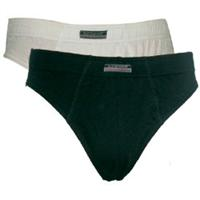mutande: (25, 48, 197, 180), (2, 17, 173, 68)
